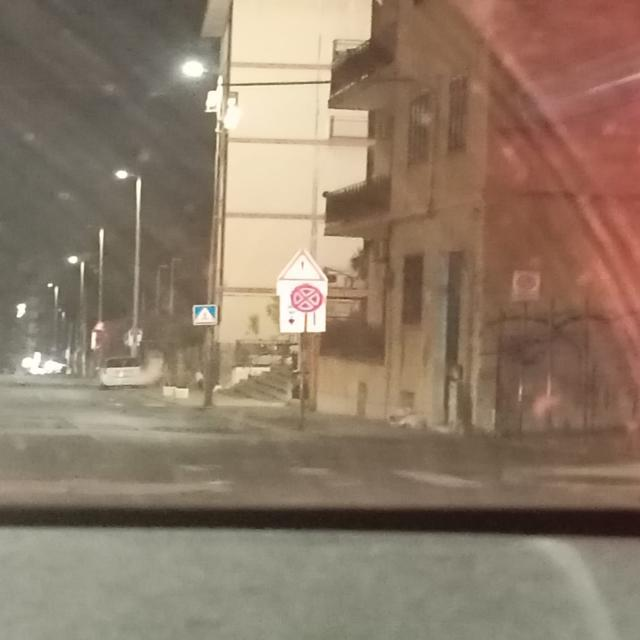forb_waiting: (290, 284, 322, 313)
